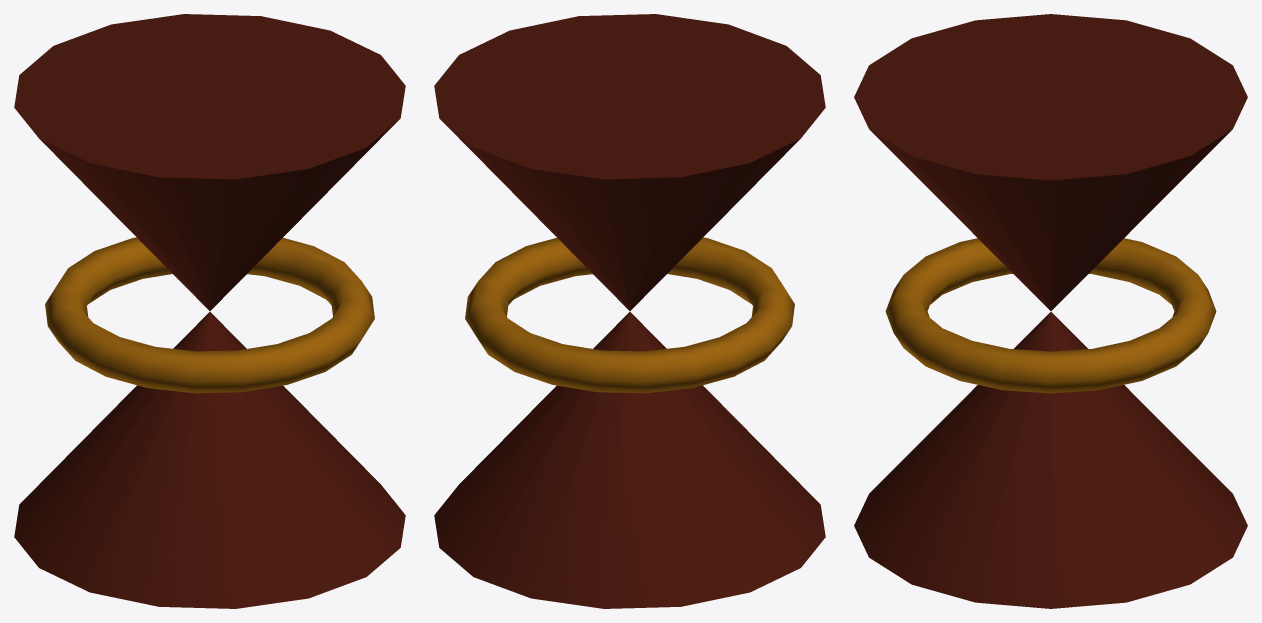
File: damaru.glb
The picture shows the model from 3 angles, left to right: view 1: azimuth 30°, elevation 25°; view 2: azimuth 150°, elevation 25°; view 3: azimuth 270°, elevation 25°; orthographic projection.
Visible parts, largest first — view 1: drum, cords; view 2: drum, cords; view 3: drum, cords.
Boxes of the visible parts, x1,y1,x2,y2 form: drum: (14,14,405,608); cords: (45,237,374,393); drum: (434,14,825,608); cords: (465,237,794,393); drum: (854,14,1247,608); cords: (885,238,1216,393).
Size of the model in its own units: 0.15 by 0.18 by 0.15.
